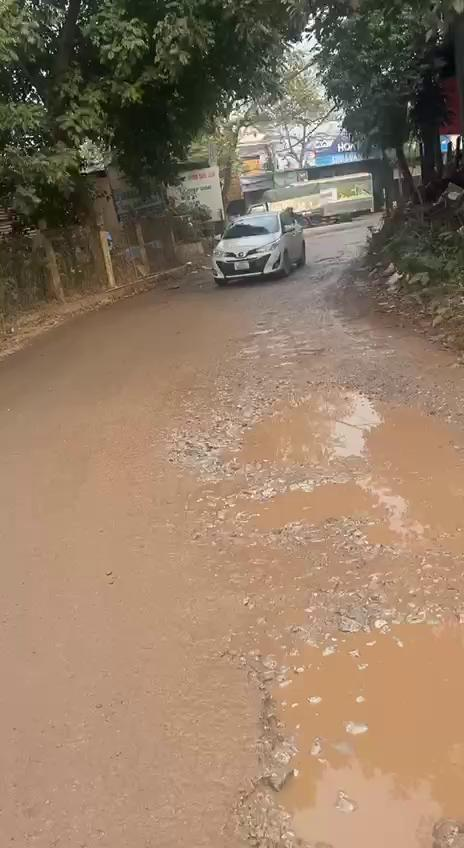pothole: (223, 600, 464, 848), (182, 375, 464, 566)
